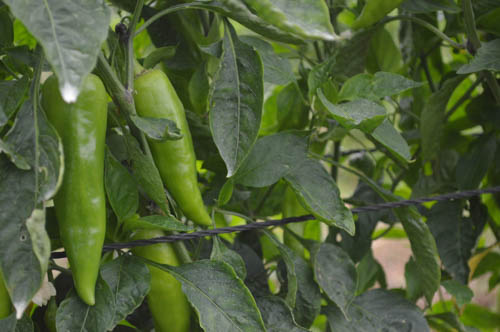ChiliPepper: (38, 76, 108, 305), (131, 70, 214, 228), (124, 230, 190, 332)
